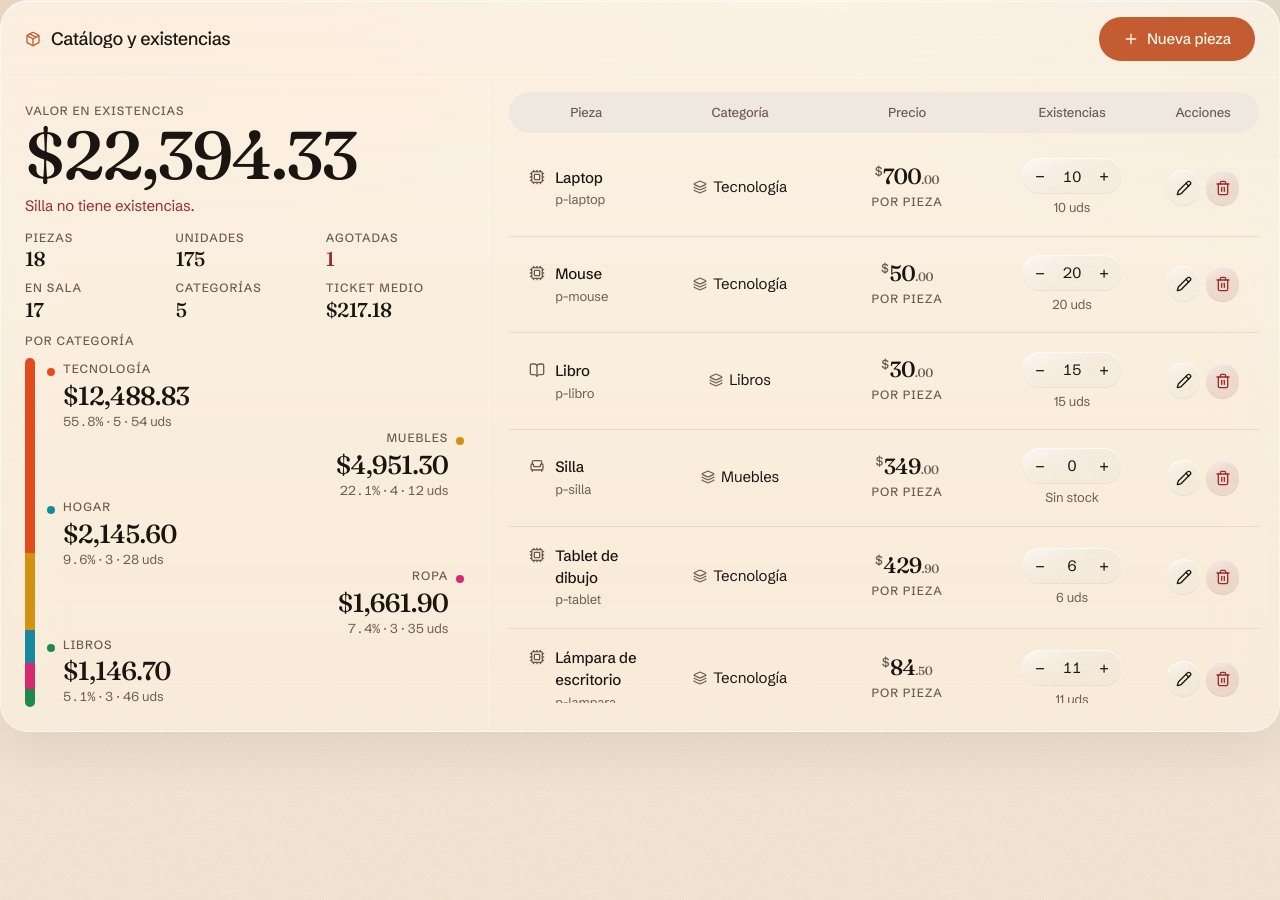
ProductDesk › loads categories from the API and shows a chosen icon in the listing
The width and height of the screenshot is (1280, 900).
Expected: the text "p-laptop" is shown, 555,190 -> 605,209
Expected: the element named "Icono Tecnología" in the row of "700" is shown, 529,166 -> 545,184
Click the button "Nueva pieza" at (1177, 39), box 1099,17 -> 1255,61
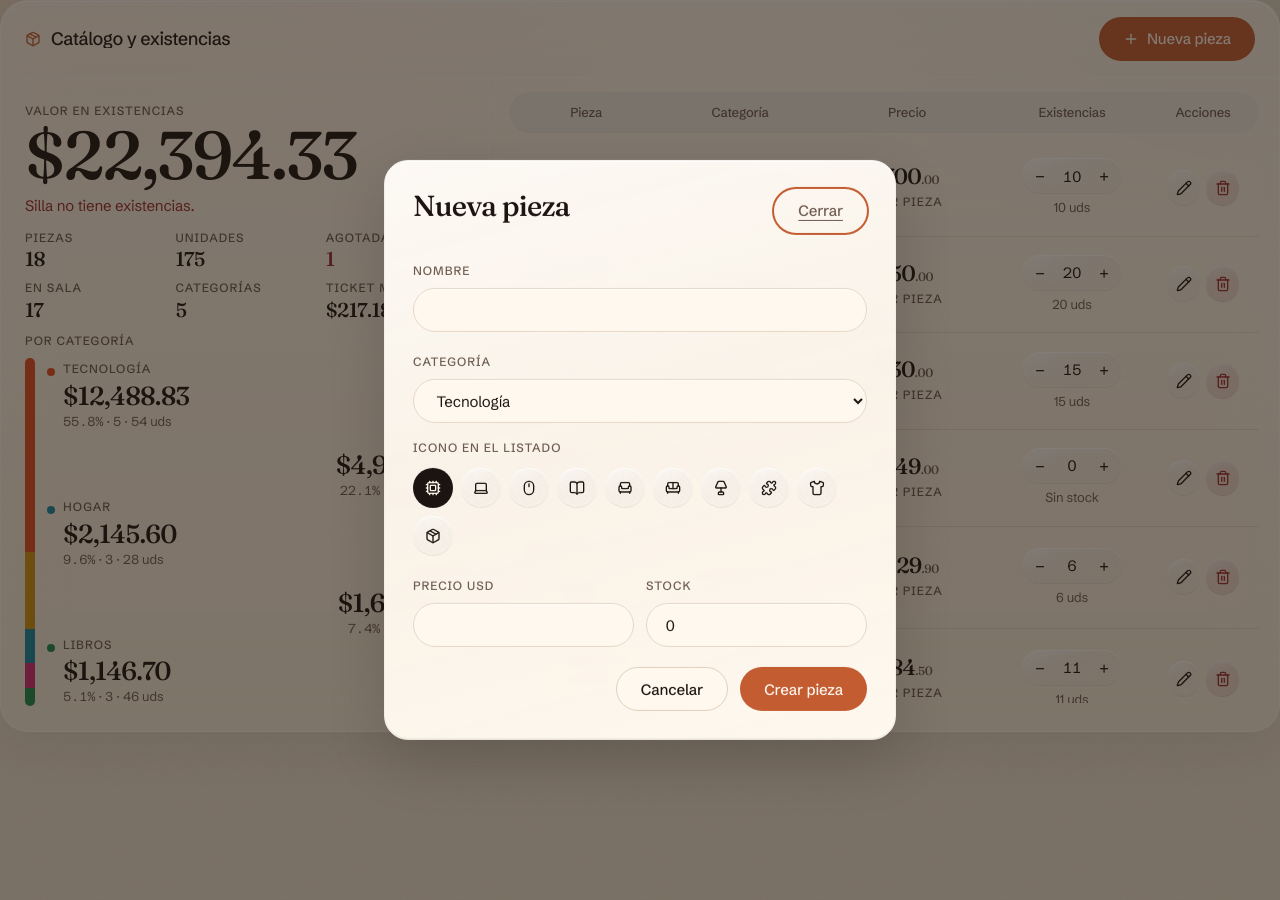
Result: the dropdown labelled "Categoría" shows "Tecnología" at 413,379 -> 867,423
Type "Peluche" into the field labelled "Nombre" at (640, 310), box 413,288 -> 867,332
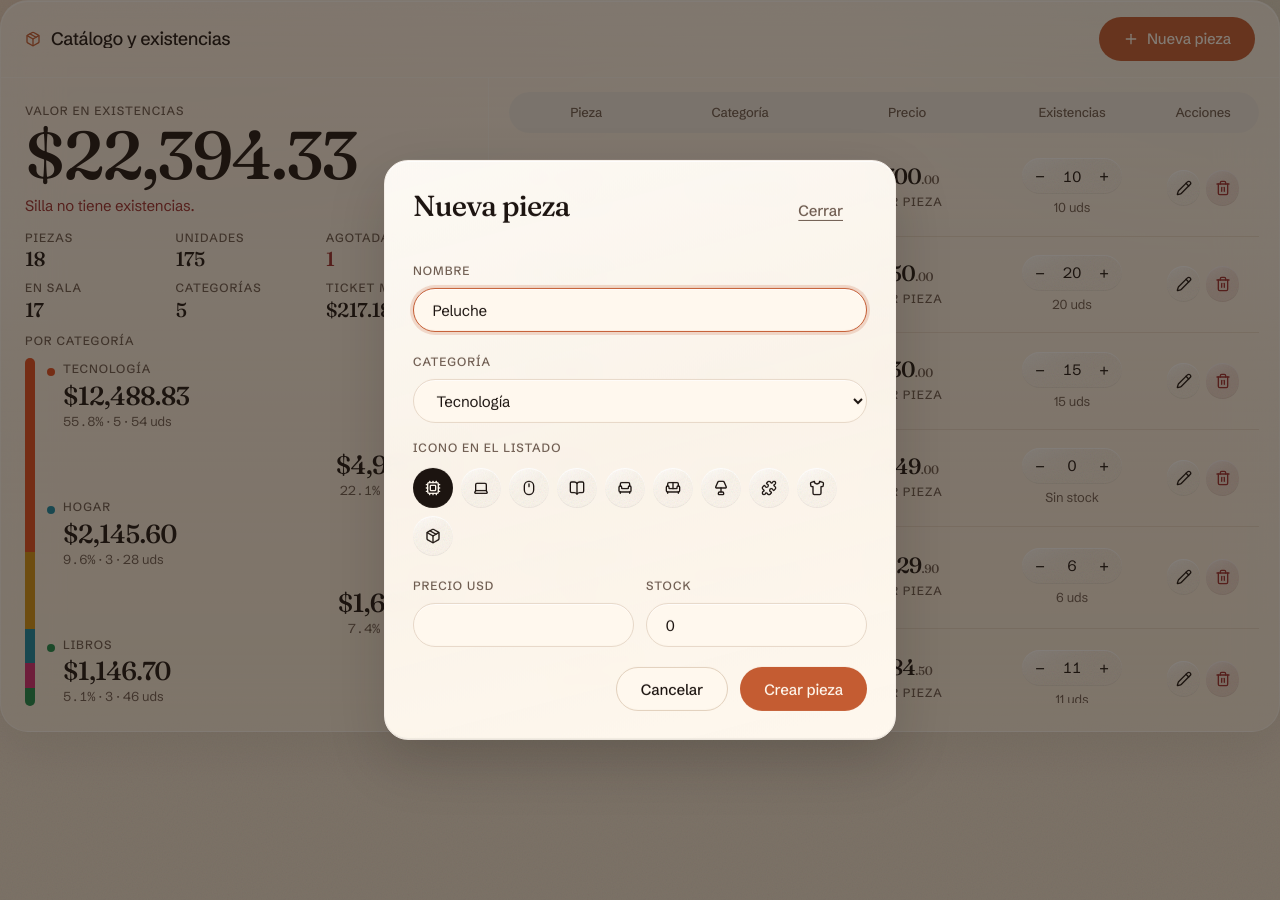
Type "25" into the number field labelled "Precio USD" at (524, 625), box 413,603 -> 634,647
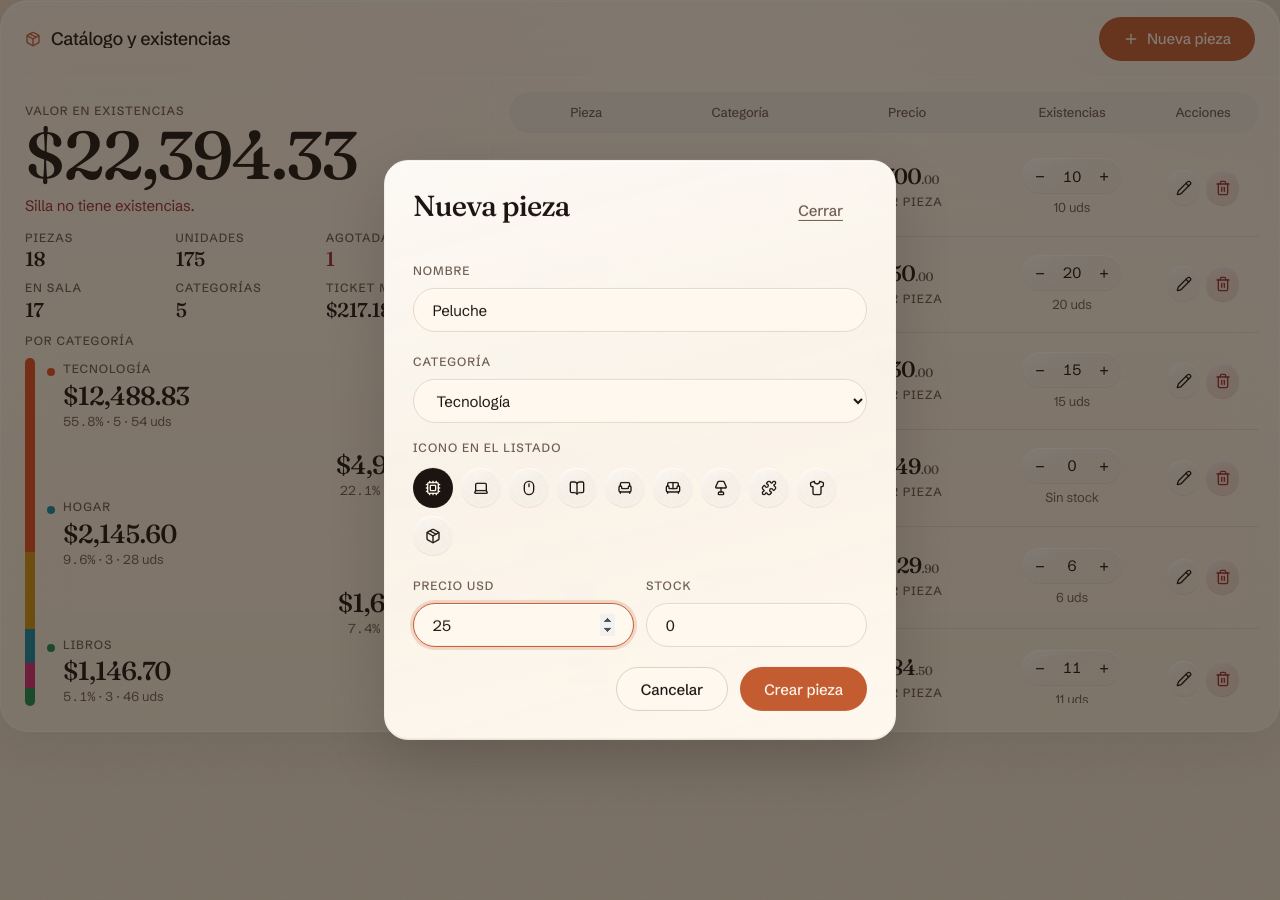
Select "Juguetería" in the dropdown labelled "Categoría" at (640, 401), box 413,379 -> 867,423
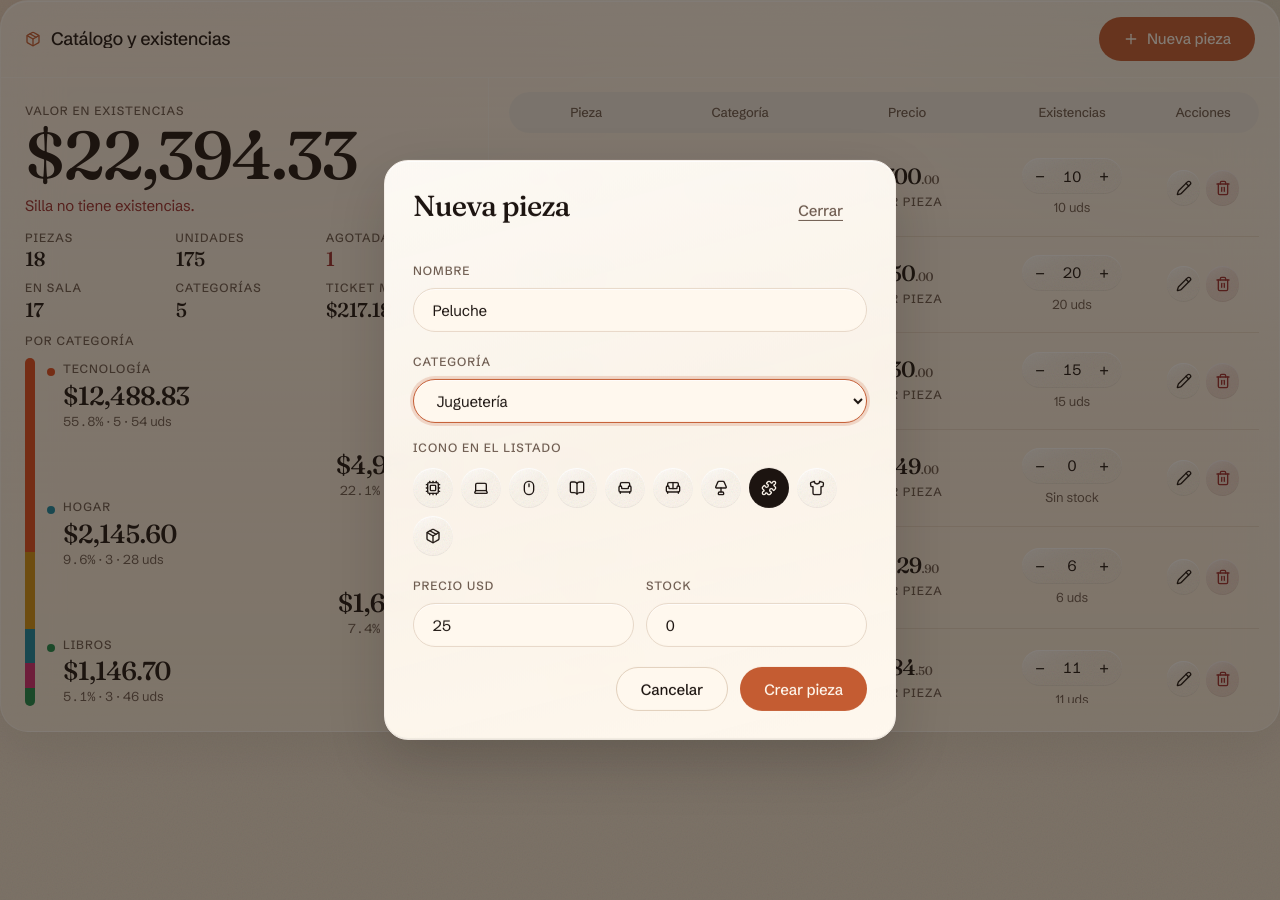
Click the button named "Icono Juguetería" at (769, 488), box 749,468 -> 789,508
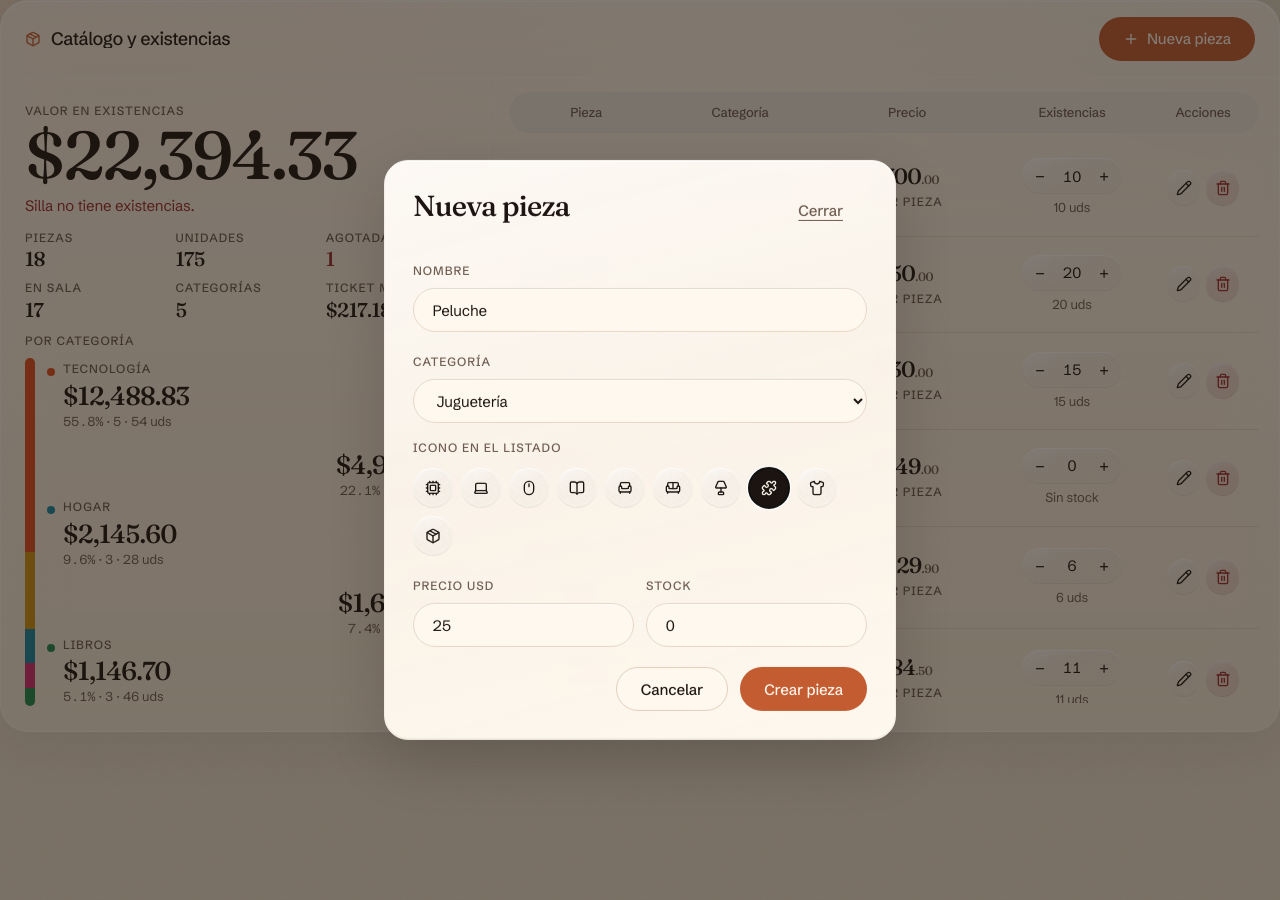
Click the button "Crear pieza" at (804, 689), box 740,667 -> 867,711
(page scrolled)
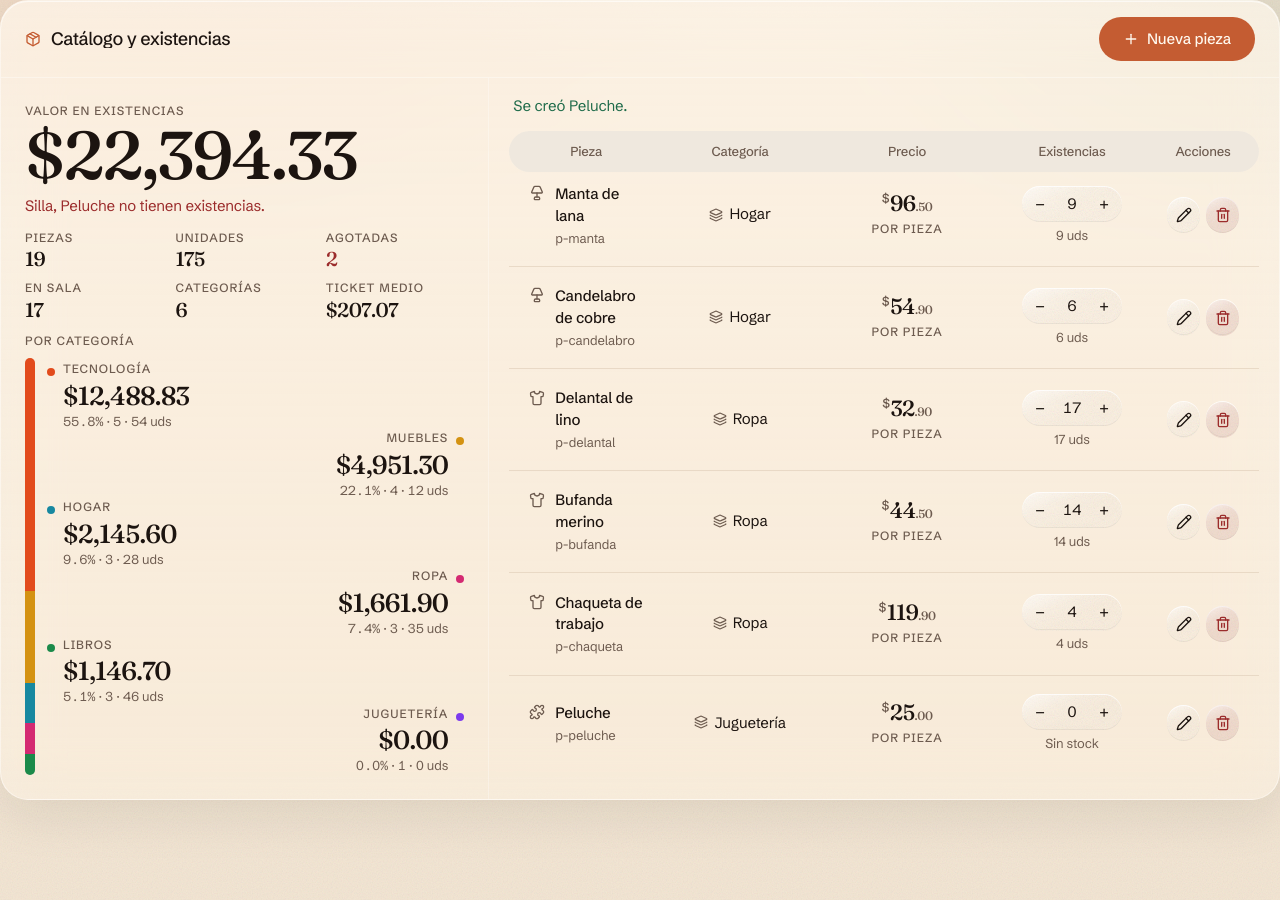
Result: the text "Peluche" is shown at 555,702 -> 616,724
Result: the element named "Icono Juguetería" is shown at 529,702 -> 545,720
